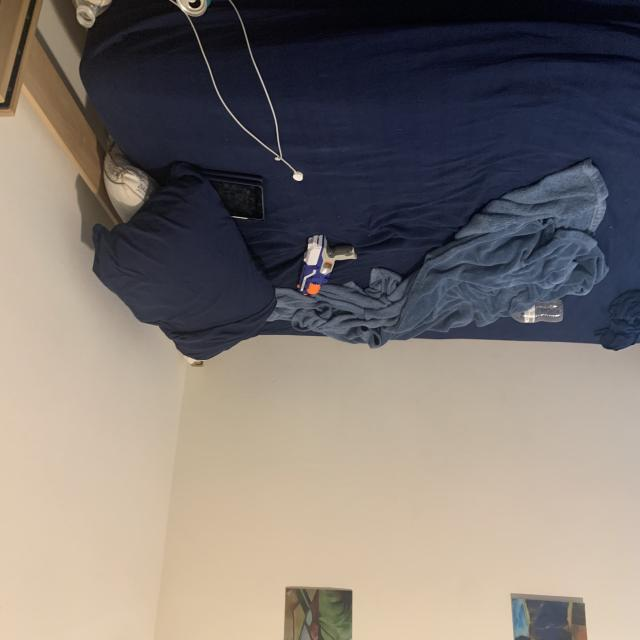nerf-maverik: (292, 230, 362, 312)
